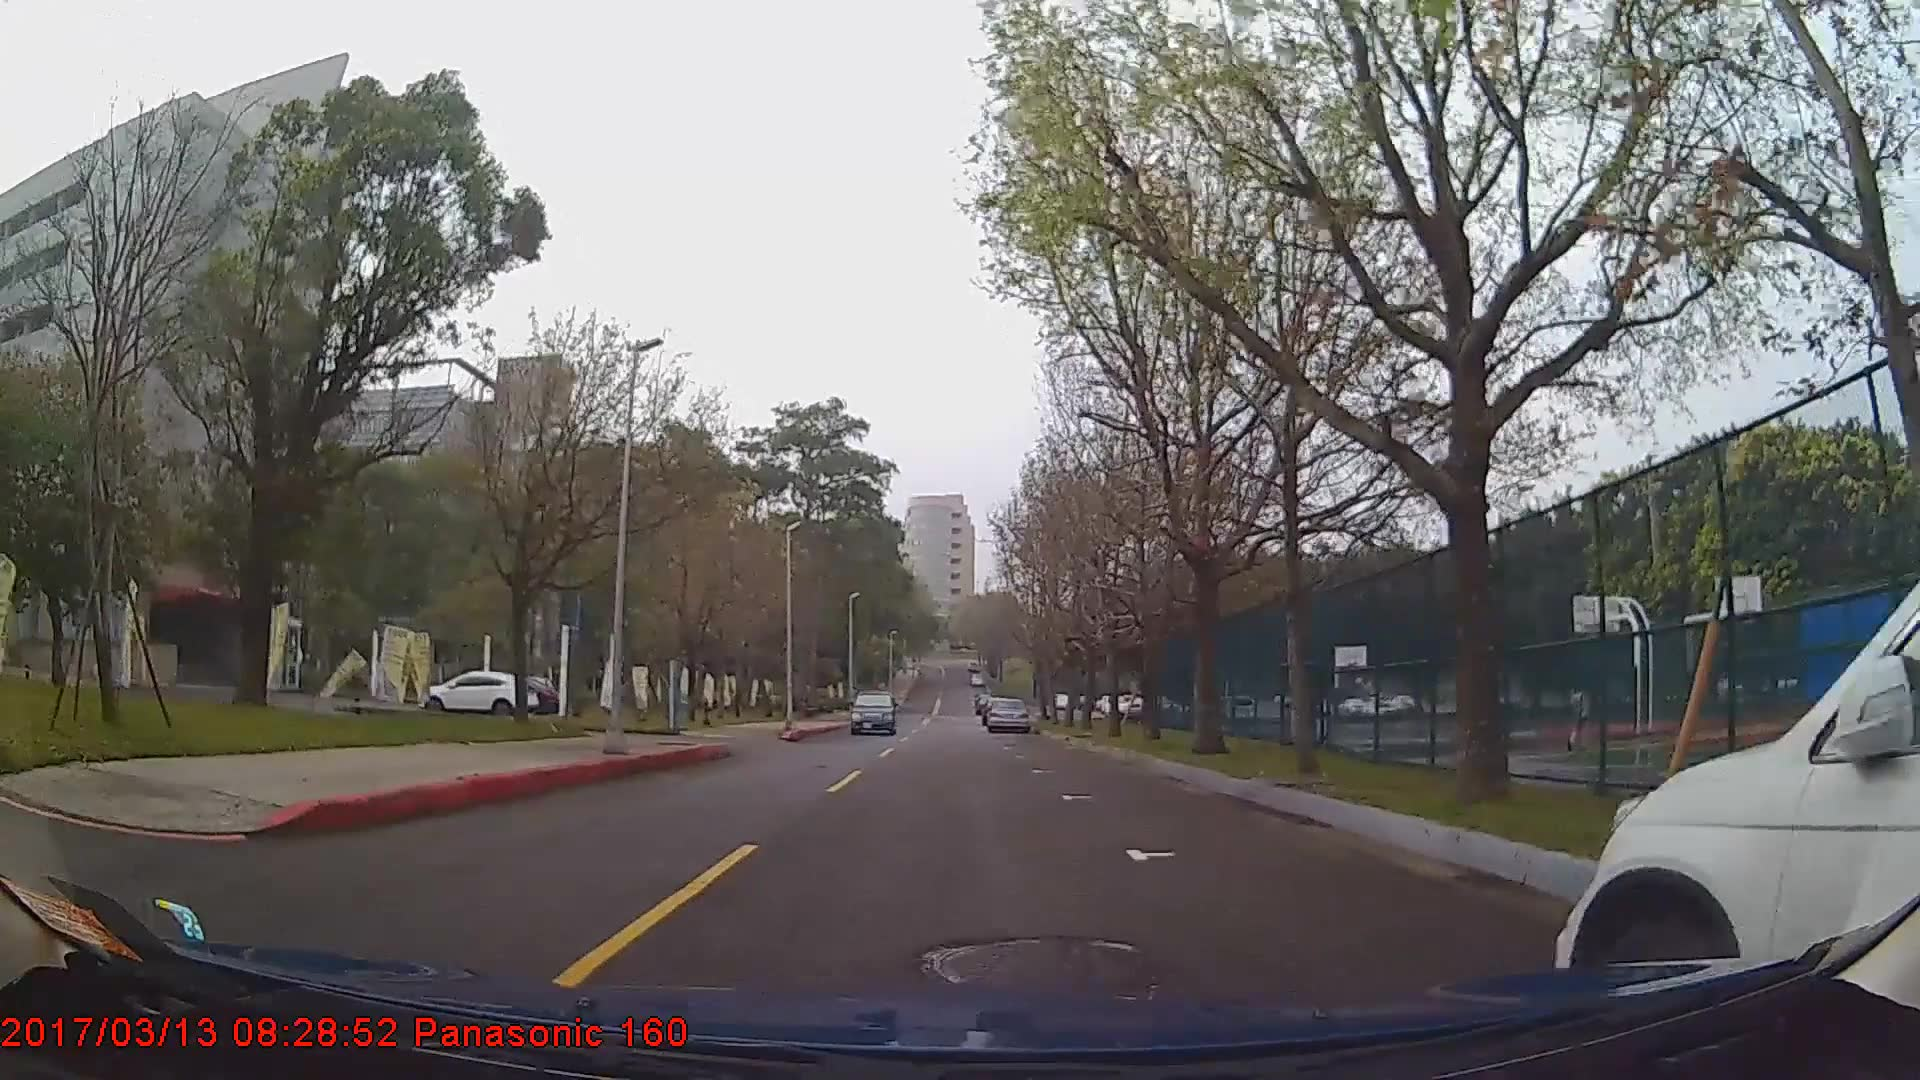vehicle: (1549, 574, 1920, 1059), (418, 667, 539, 715), (851, 687, 897, 736), (986, 696, 1030, 735)
